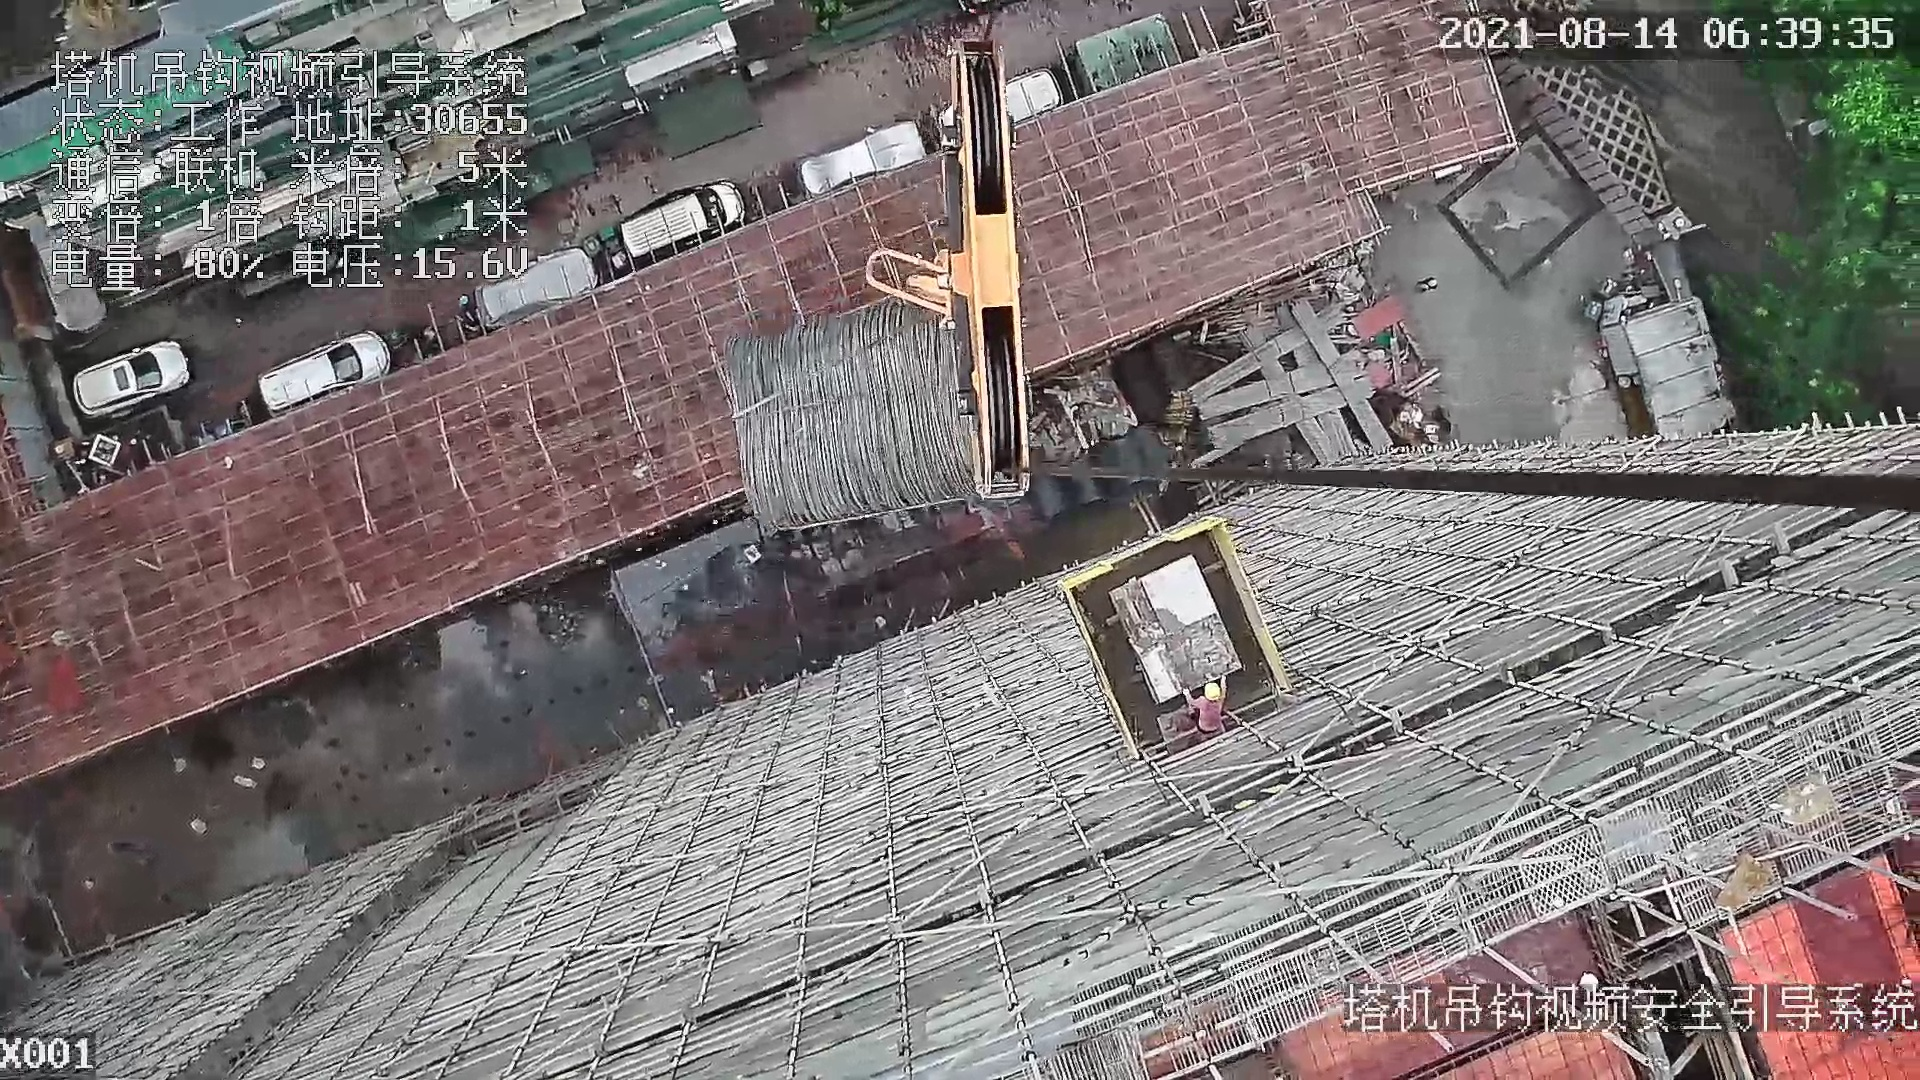helmet: (1198, 683, 1227, 704)
hook: (864, 37, 1033, 503)
person: (1174, 673, 1232, 735)
